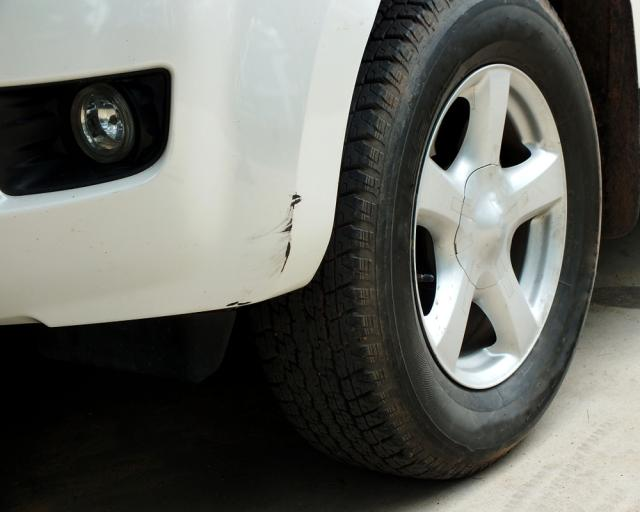scratch: (247, 193, 302, 273)
